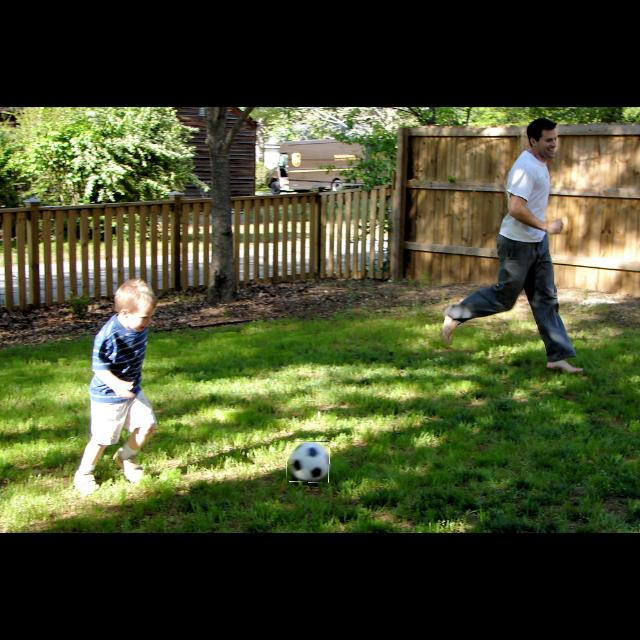Football: (286, 441, 330, 483)
